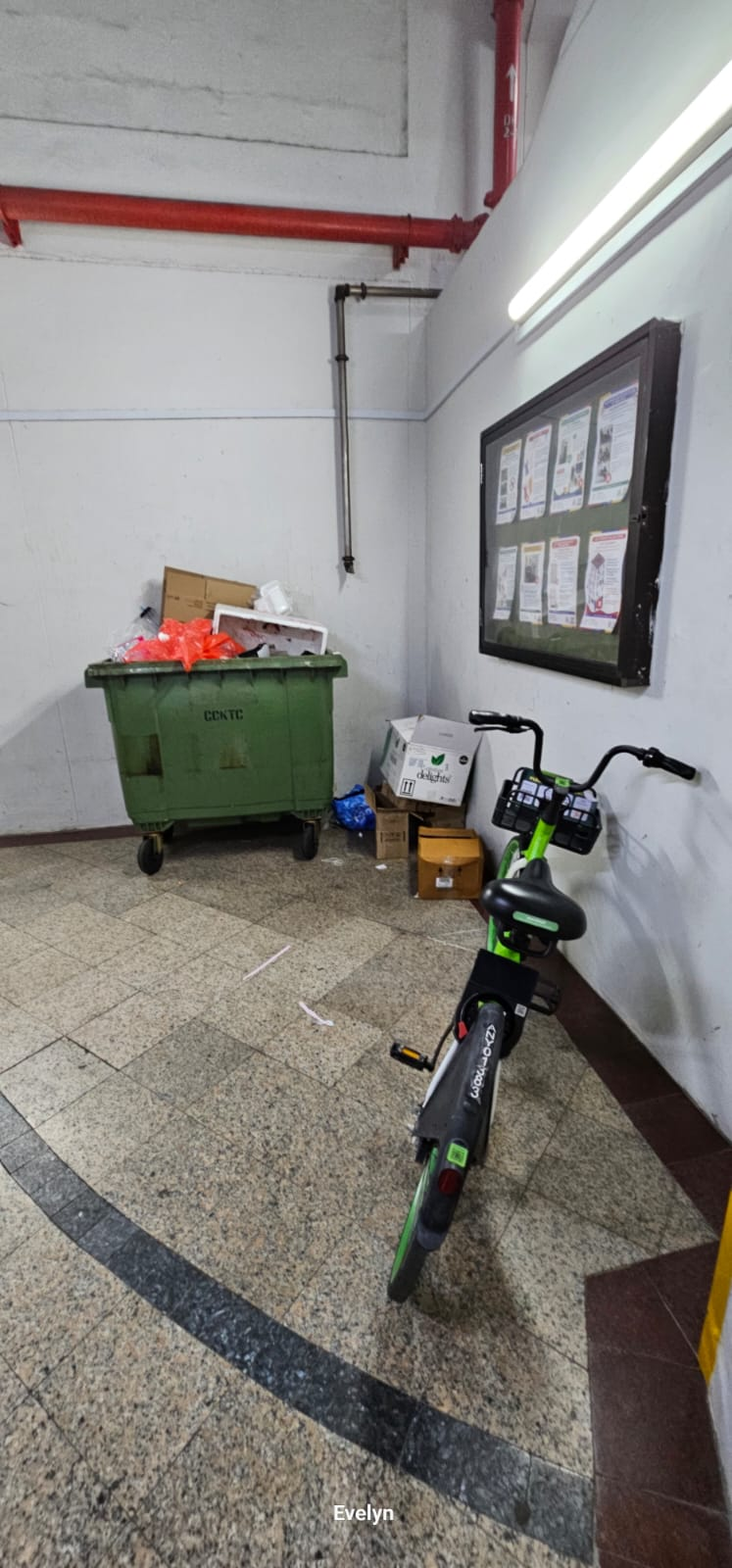bin_full: (85, 566, 347, 874)
bulk_waste: (380, 714, 481, 805), (418, 828, 483, 901), (366, 786, 408, 860)
vehicle: (388, 710, 693, 1301)
